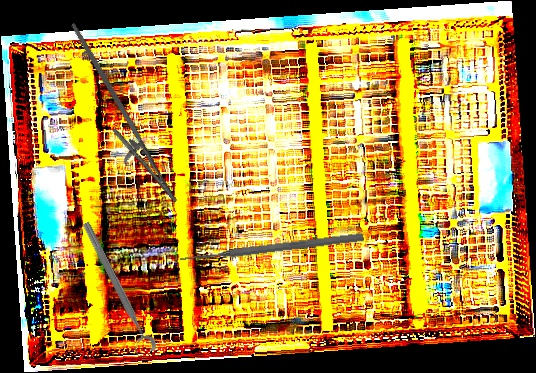Fixation Ring: (71, 219, 159, 359)
Needle Holder: (38, 22, 198, 213)
Pusher: (177, 230, 365, 266)
